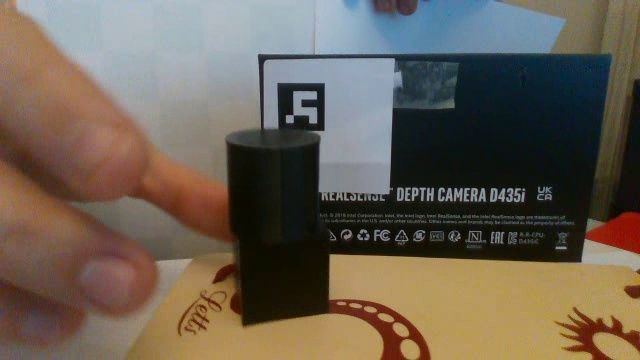cube: (225, 230, 336, 334)
cylindre: (211, 122, 334, 243)
